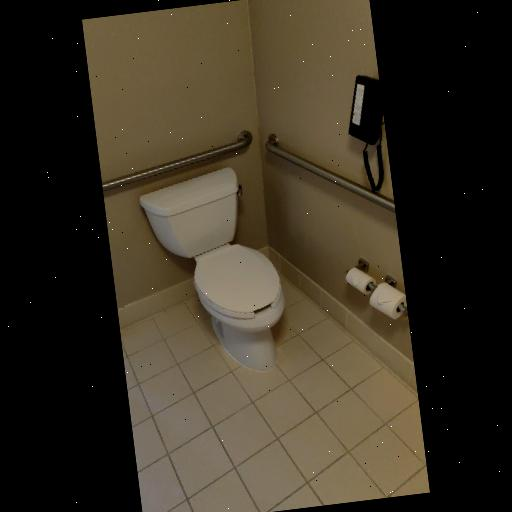clean_floor: (123, 295, 430, 512)
clean_toilet: (136, 166, 290, 386)
